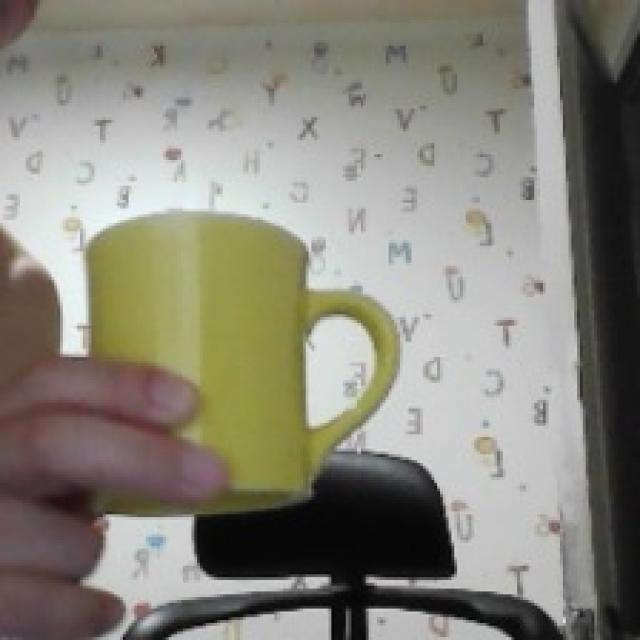cup: (86, 211, 397, 511)
